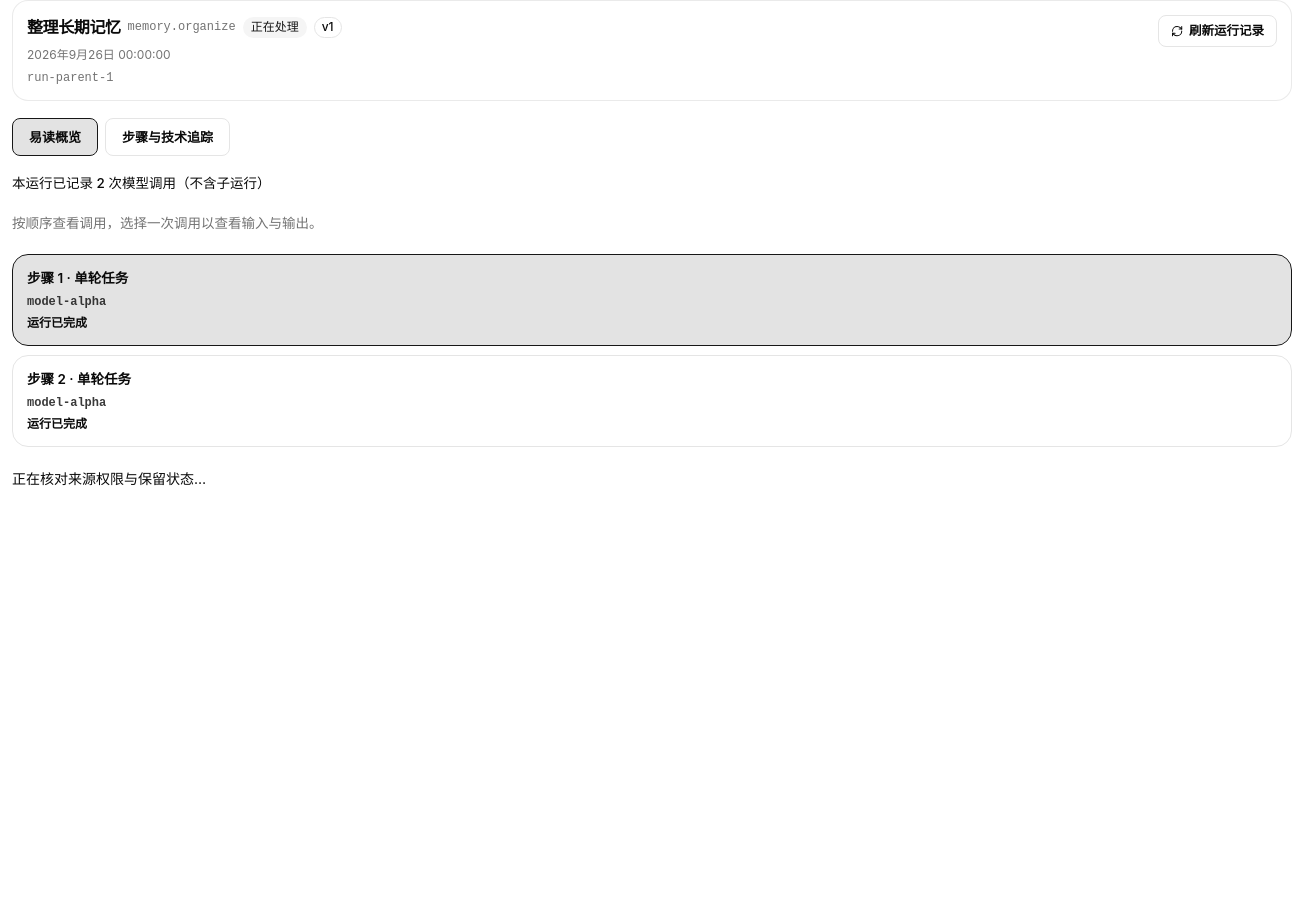
Test: conversation live task details › prefetches both steps while closed, switches selection with zero extra requests and keeps the unselected step's evidence hidden
Expected: the text "memory.organize" is shown, [128,19,236,35]
Click the button "步骤 2 · 单轮任务 model-alpha 运行已完成": (79, 379) [12,355,1292,447]
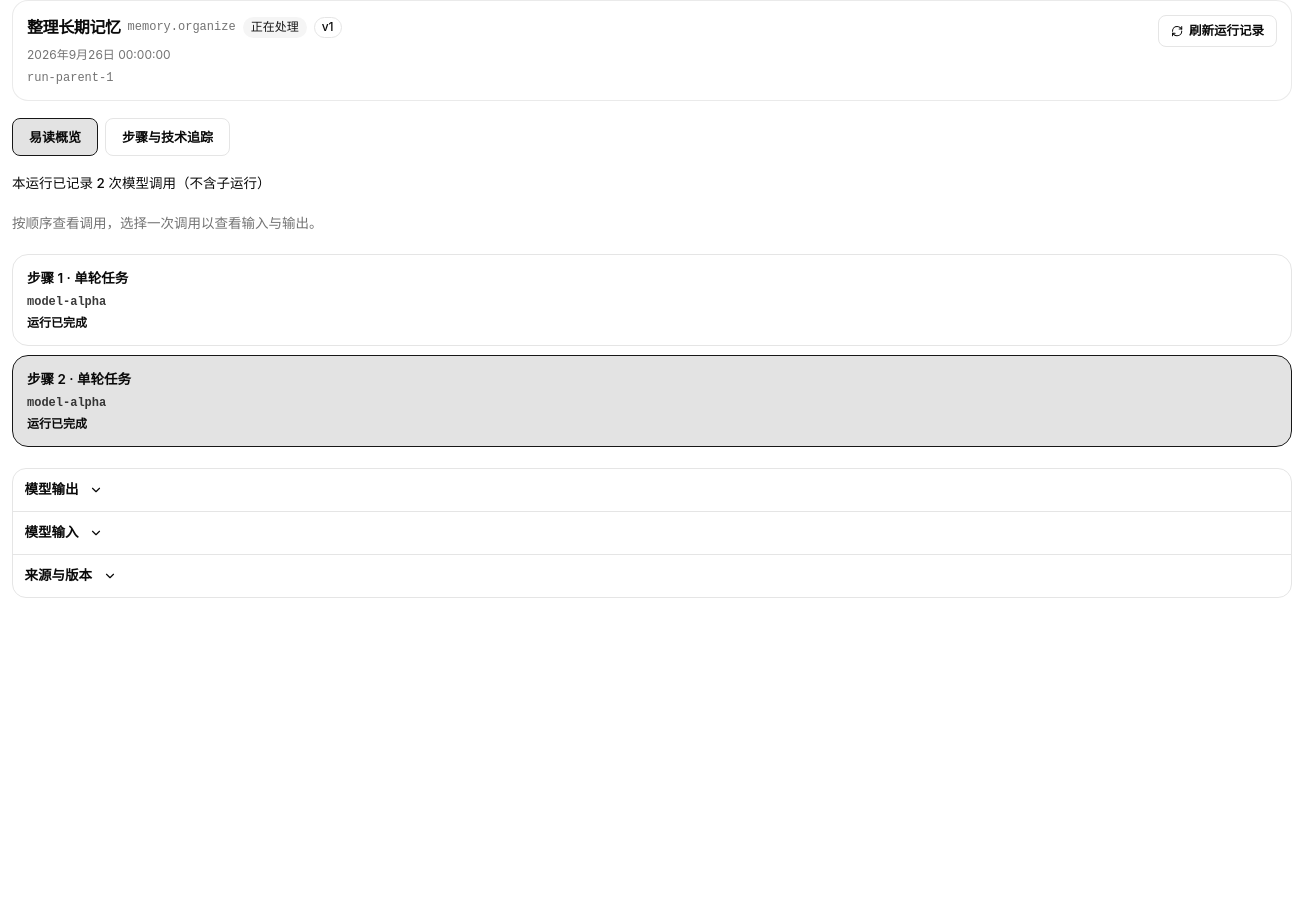
Expected: the button "模型输入" is shown
Click the button "模型输入": (64, 533) [13,512,114,554]
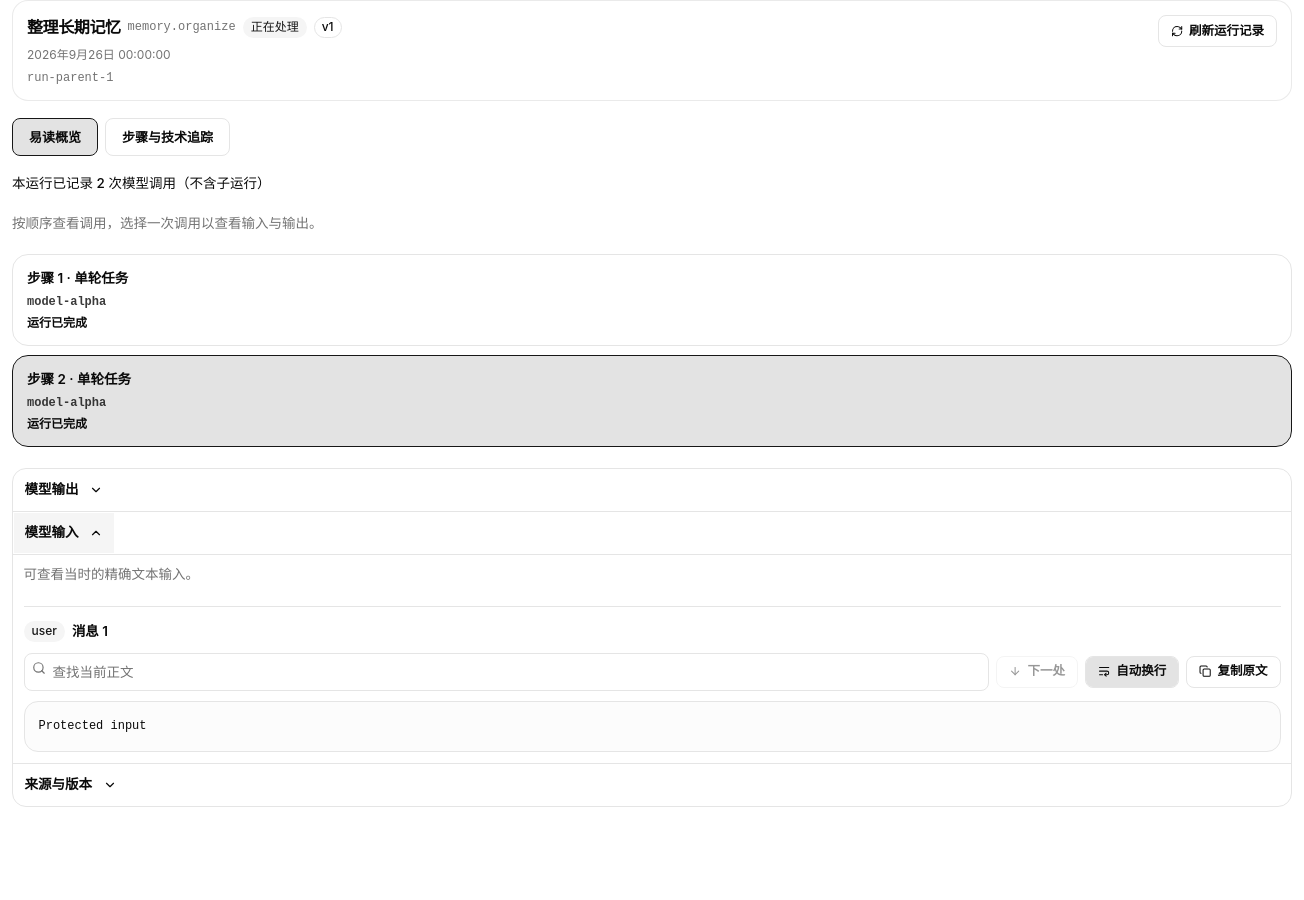
Expected: the text "Protected input" is shown once, [24,701,1280,752]
